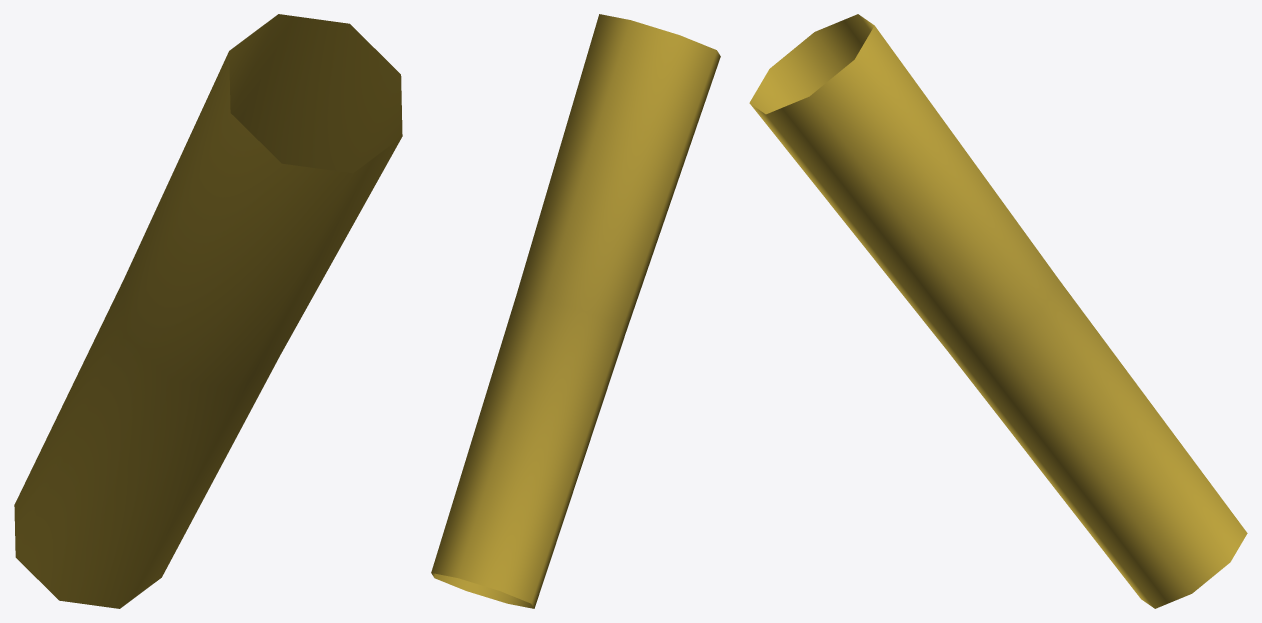
File: Kamome_Body_Limb1L.fbx
3 renders of one model, left to right at view 1: azimuth 30°, elevation 25°; view 2: azimuth 150°, elevation 25°; view 3: azimuth 270°, elevation 25°, orthographic. The views are drawn at different scales.
Visible parts, largest first — view 1: Kamome_Body_Limb1L; view 2: Kamome_Body_Limb1L; view 3: Kamome_Body_Limb1L.
Part boxes in pixels (x1,y1,x2,y2): Kamome_Body_Limb1L: (14,14,402,608); Kamome_Body_Limb1L: (431,14,720,608); Kamome_Body_Limb1L: (749,14,1247,608).
Size of the model in its own units: 0.4596 by 1.88 by 1.49.
